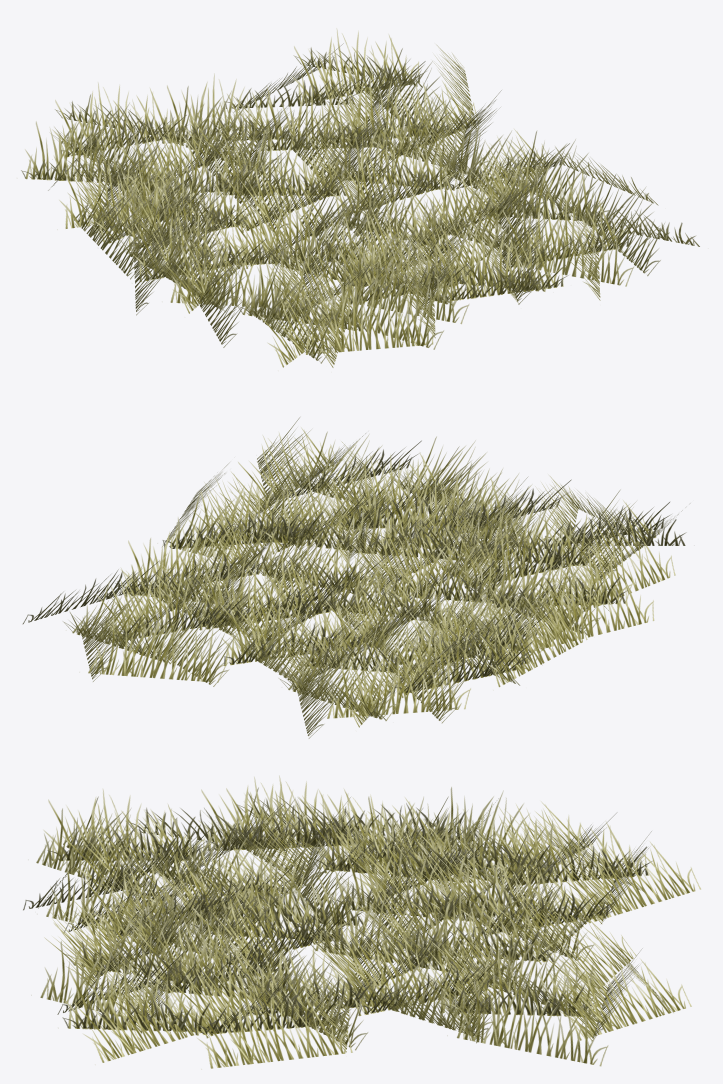
Rendered from grass-18.glb.
3 renders of one model, top to bottom at view 1: azimuth 30°, elevation 25°; view 2: azimuth 150°, elevation 25°; view 3: azimuth 270°, elevation 25°, orthographic. The views are drawn at different scales.
Visible parts, largest first — view 1: Plane021; view 2: Plane021; view 3: Plane021.
Boxes of the visible parts, bbox=[...] form: Plane021: bbox=[21, 30, 699, 367]; Plane021: bbox=[22, 417, 690, 738]; Plane021: bbox=[23, 776, 700, 1068].
Size of the model in its own units: 36.78 by 3.49 by 42.15.
Materials: 1 (1 with a texture image).
